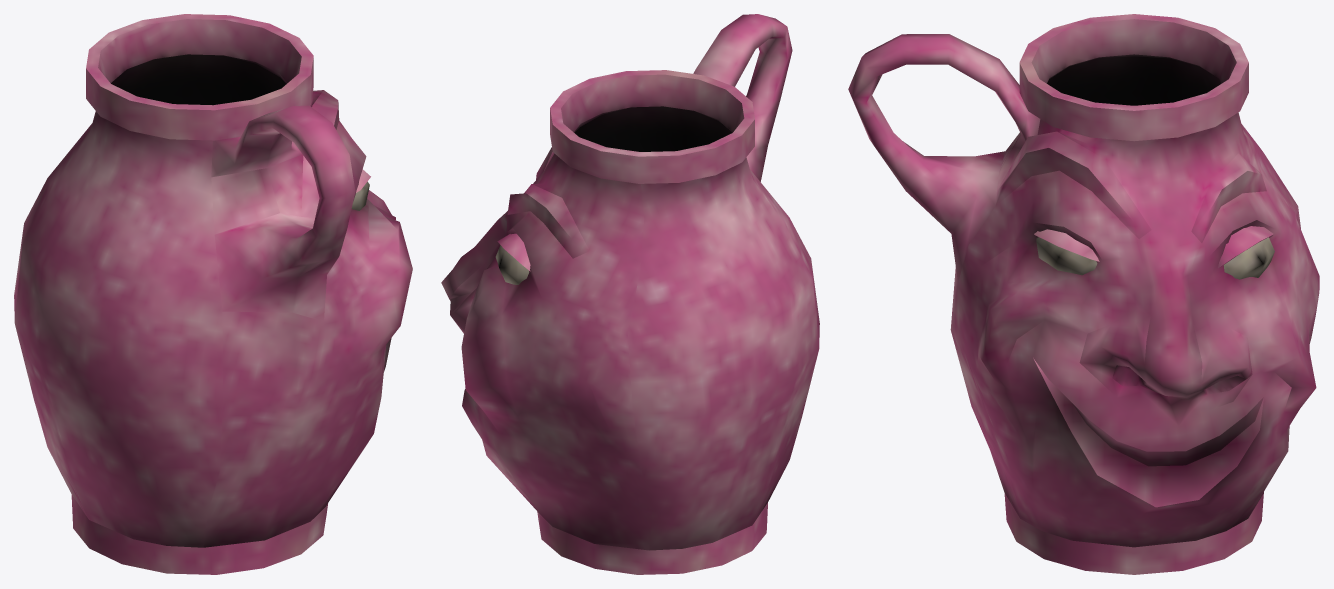
The model's file is Vessel.fbx.
3 renders of one model, left to right at view 1: azimuth 30°, elevation 25°; view 2: azimuth 150°, elevation 25°; view 3: azimuth 270°, elevation 25°, orthographic. The views are drawn at different scales.
Visible parts, largest first — view 1: Vessel; view 2: Vessel, EyeLid_L; view 3: Vessel, EyeLid_L, EyeLid_R.
Boxes of the visible parts, x1,y1,x2,y2 form: Vessel: (14,14,412,574); Vessel: (441,14,819,574); EyeLid_L: (497,233,530,271); Vessel: (848,14,1319,574); EyeLid_L: (1218,226,1273,268); EyeLid_R: (1034,229,1099,261).
Bounding box in the file's own units: 22.79 × 28.66 × 25.35.
